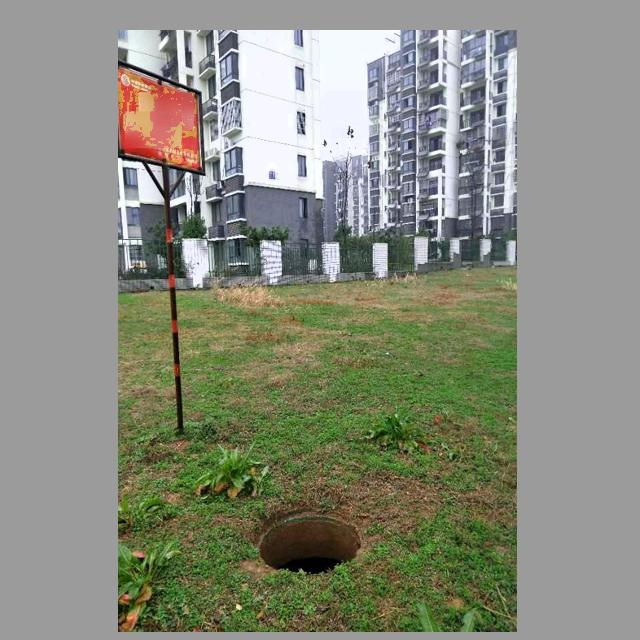lose: (256, 510, 363, 578)
